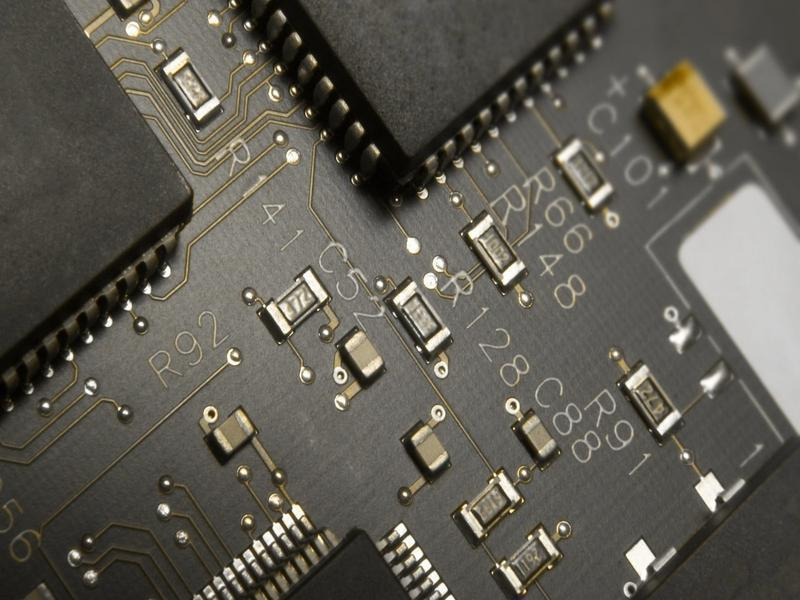SMD capacitor: (339, 326, 384, 384), (211, 404, 257, 457), (408, 424, 452, 476), (518, 412, 562, 464)
SMD resistor: (161, 51, 222, 132), (471, 214, 527, 289), (271, 268, 327, 336), (395, 284, 450, 351), (503, 526, 557, 593), (463, 471, 516, 539), (628, 371, 679, 441)
